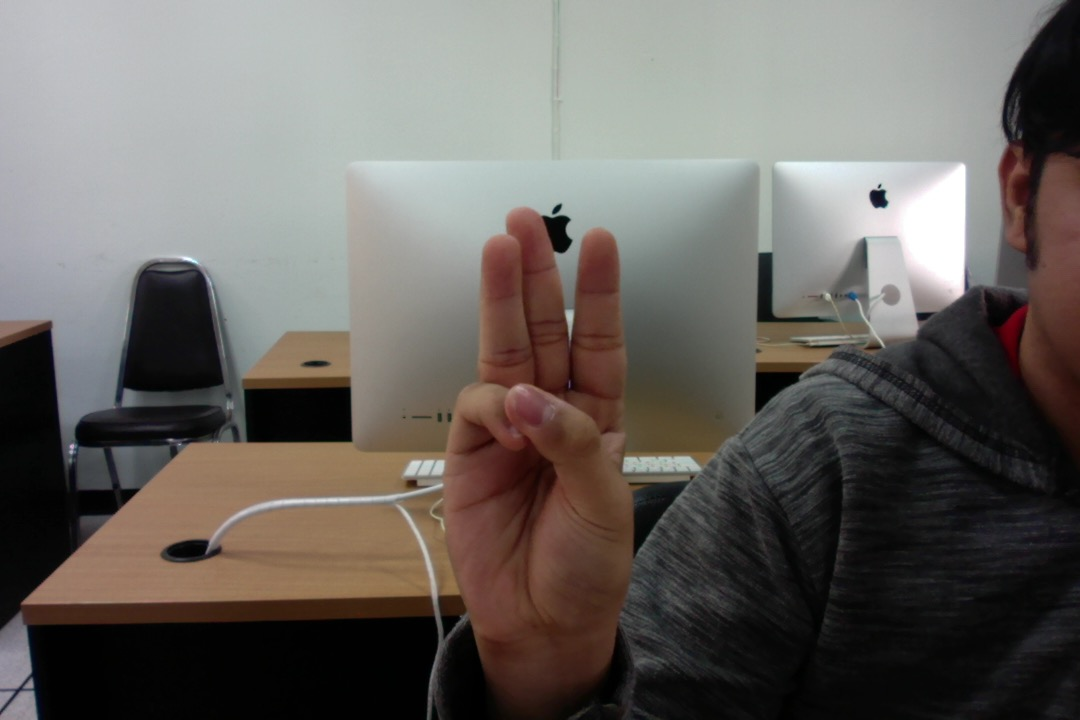wor: (436, 202, 667, 676)
